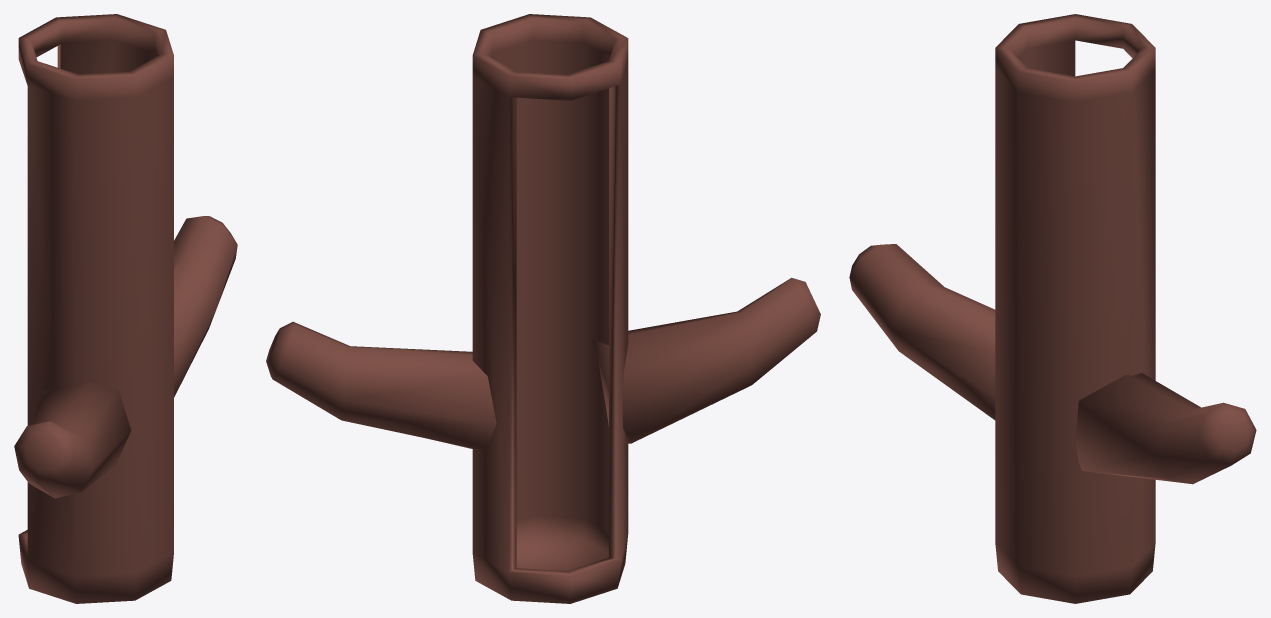
Rendered from Towel_Basket (2).fbx.
3 views of the same model, side by side, from view 1: azimuth 30°, elevation 25°; view 2: azimuth 150°, elevation 25°; view 3: azimuth 270°, elevation 25° (orthographic).
Visible parts, largest first — view 1: Towel Basket; view 2: Towel Basket; view 3: Towel Basket.
Part boxes in pixels (bbox=[...]): Towel Basket: bbox=[14, 14, 237, 603]; Towel Basket: bbox=[266, 14, 820, 603]; Towel Basket: bbox=[849, 14, 1256, 603].
Size of the model in its own units: 1.7 by 2.27 by 1.58.
